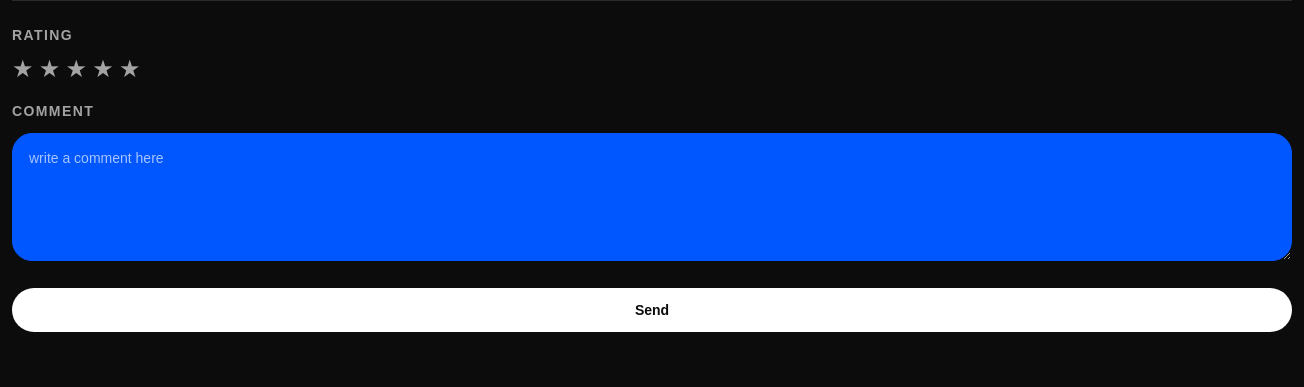
Test: CreateCommentForm › sends rating and body and shows success feedback
The width and height of the screenshot is (1304, 387).
Step 1. Click the button named "Select 4 star rating" → (104, 69), box [92,57,115,81]
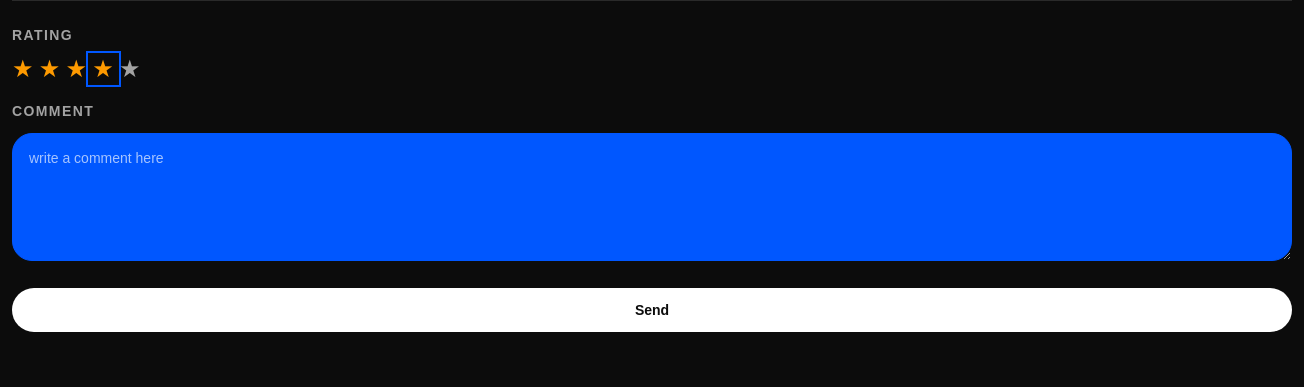
Step 2. Type " Great food " into the text box labelled "Comment" → (652, 197), box [12,133,1292,261]
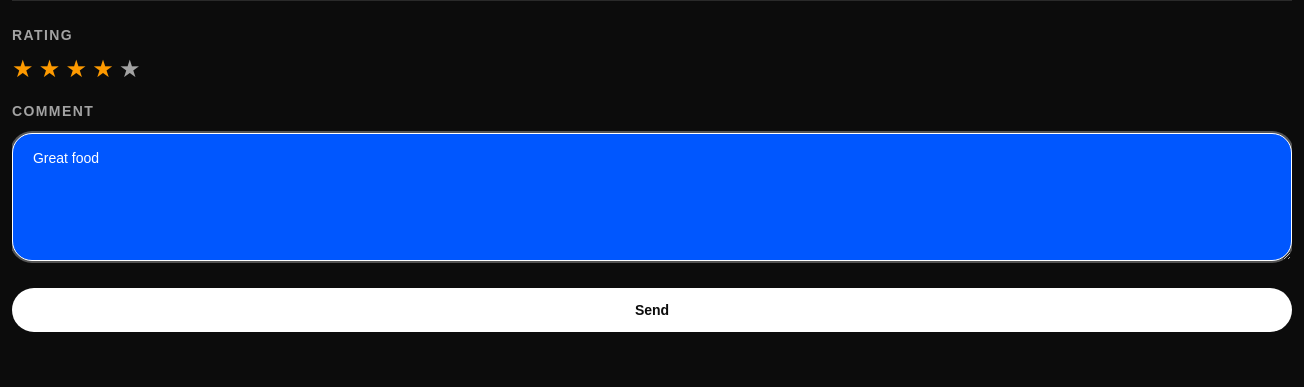
Step 3. Click the button "Send" → (652, 310), box [12,288,1292,332]
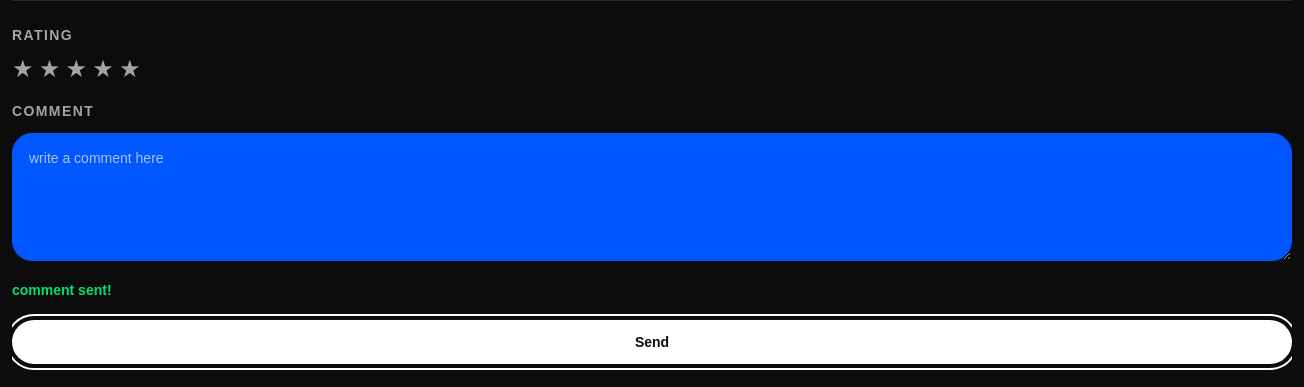
Expected: the text "comment sent!" is shown, [12,282,112,298]
